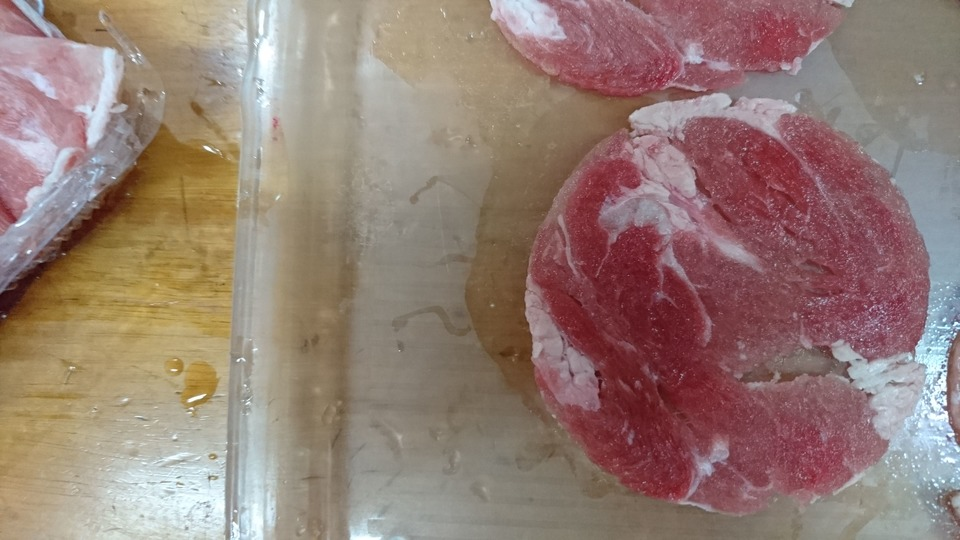restructured meat: (510, 100, 923, 499), (492, 2, 882, 82)
